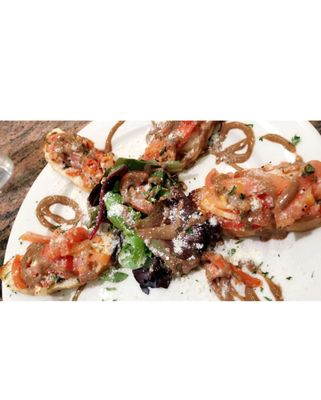sandwich: (1, 121, 319, 297)
